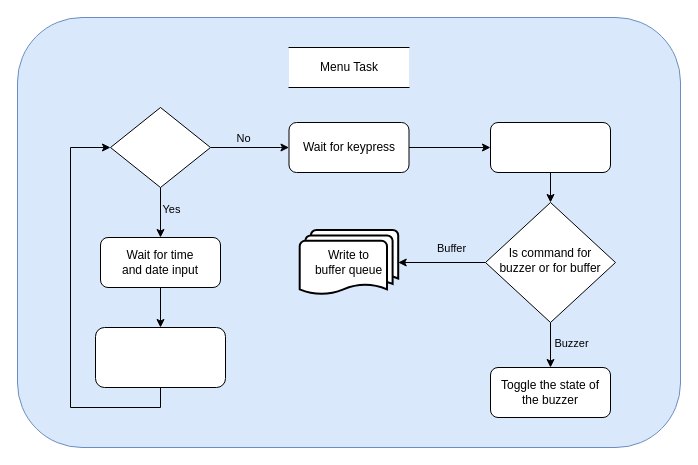
Image size: 698x465. Some labels were removed from this diagram. Here are the shapes that lost their labels. From the top down, the box of each, then its label:
(110, 106, 210, 188): Is cold start flag set?
(490, 122, 610, 172): Stop LCD from printing and retreive command
(94, 326, 226, 388): Send date and time to buffer and unset the cold start flag
